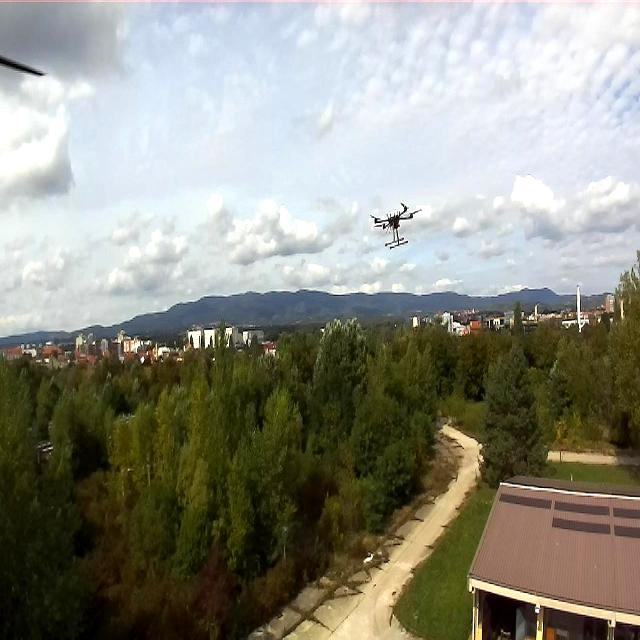drone: (369, 198, 421, 251)
